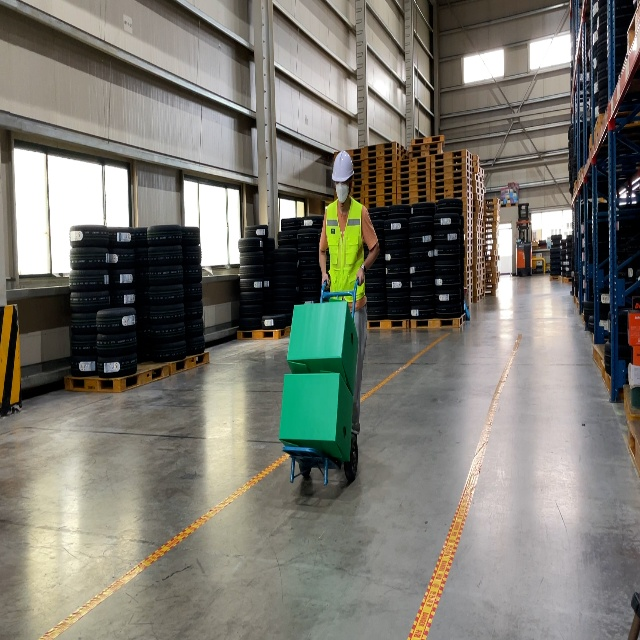Box: (278, 368, 355, 463), (286, 297, 359, 396)
Worker: (318, 148, 380, 444)
